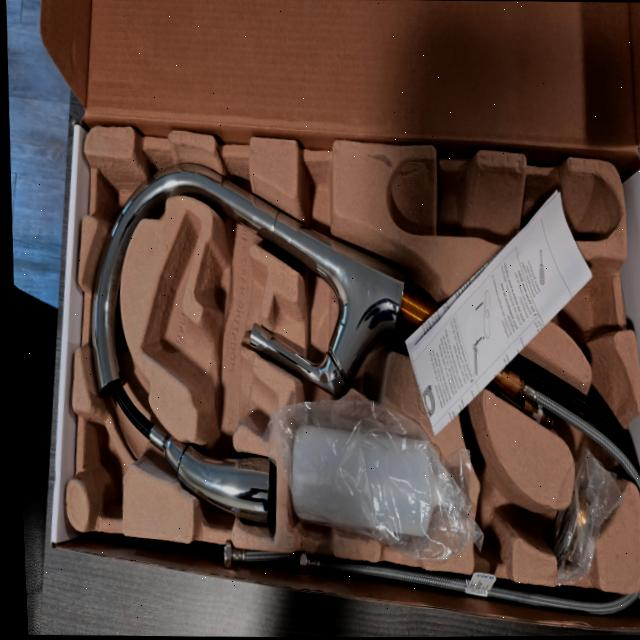1o: (88, 163, 639, 522)
2m: (145, 205, 277, 442)
3: (291, 423, 458, 539)
4m: (387, 155, 620, 244)
5m: (548, 268, 607, 343)
6: (550, 450, 627, 584)
7m: (463, 432, 539, 565)
8: (402, 186, 592, 438)
